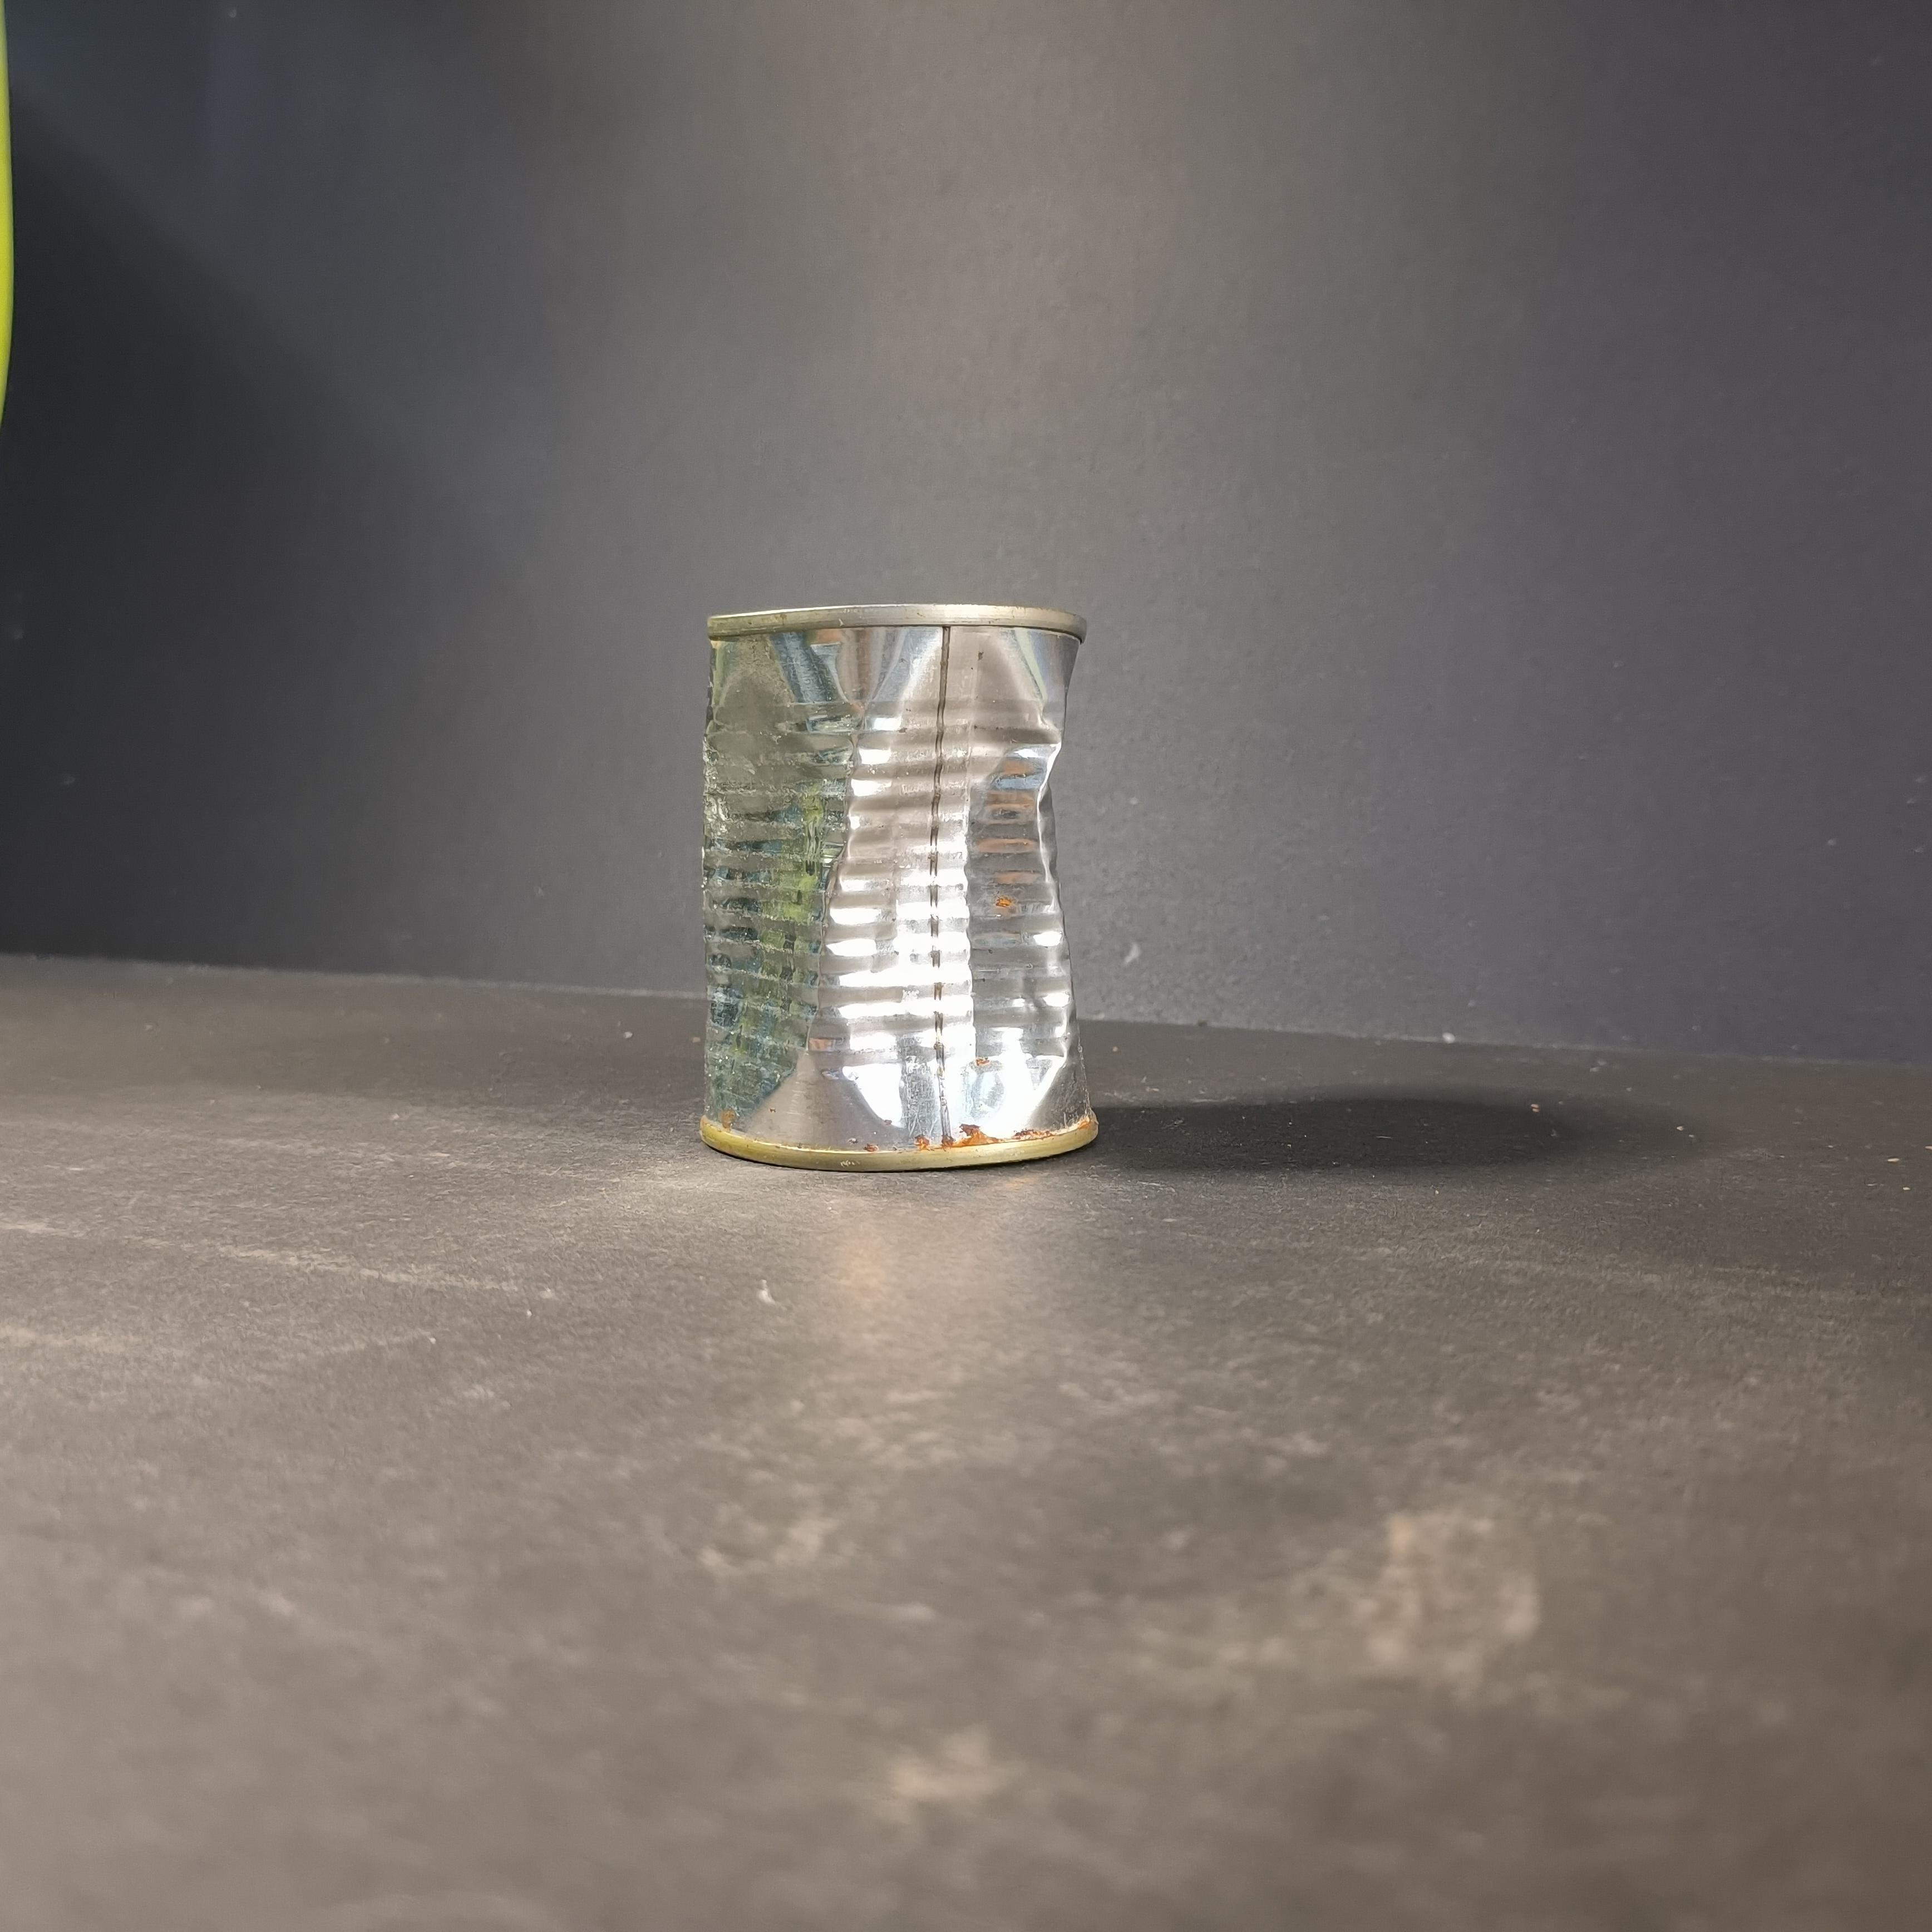Dented: (676, 582, 1136, 1168)
